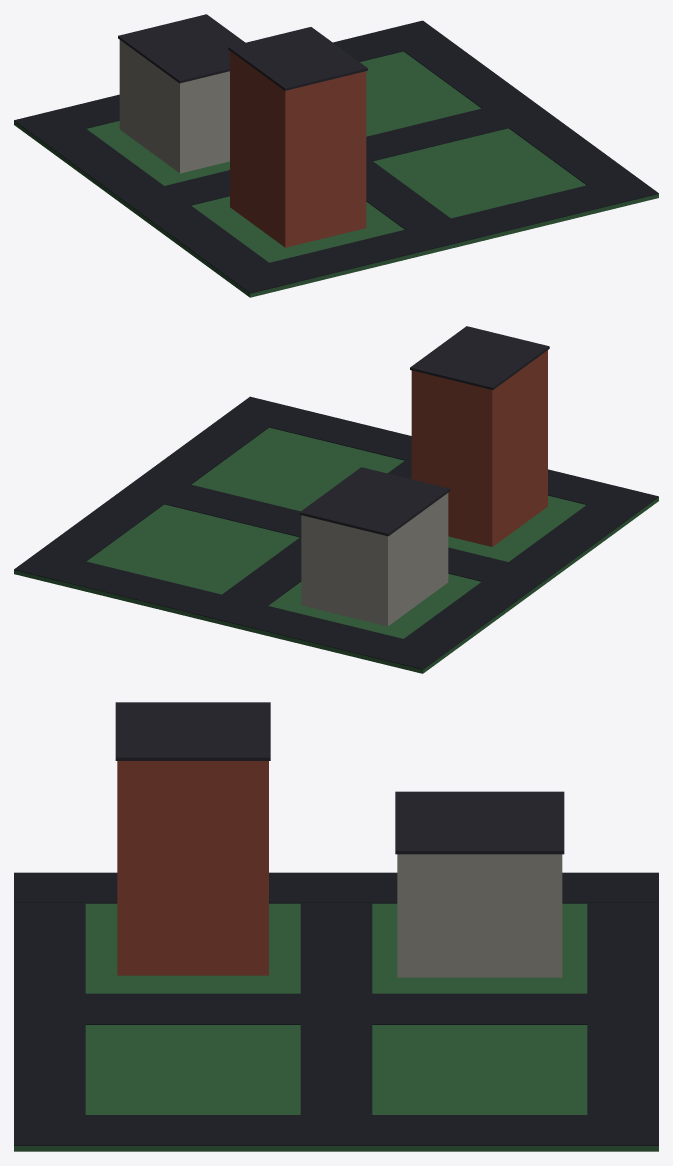
The model's file is world.obj.
3 renders of one model, top to bottom at view 1: azimuth 30°, elevation 25°; view 2: azimuth 150°, elevation 25°; view 3: azimuth 270°, elevation 25°, orthographic. The views are drawn at different scales.
Parts seen in each view (by area): view 1: asphalt, grass, building-brick, roof, building-stone; view 2: asphalt, grass, building-brick, building-stone, roof; view 3: asphalt, grass, building-brick, building-stone, roof.
Boxes of the visible parts, x1,y1,x2,y2 form: asphalt: (14, 20, 658, 293); grass: (14, 51, 658, 297); building-brick: (230, 51, 366, 247); roof: (118, 14, 367, 90); building-stone: (119, 40, 229, 173); asphalt: (14, 396, 658, 669); grass: (14, 427, 658, 673); building-brick: (411, 350, 547, 546); building-stone: (301, 493, 448, 626); roof: (299, 326, 549, 536); asphalt: (14, 872, 658, 1145); grass: (14, 903, 658, 1151); building-brick: (117, 761, 268, 975); building-stone: (397, 854, 562, 977); roof: (115, 702, 564, 854).
Size of the model in its own units: 54 by 20.75 by 54.
